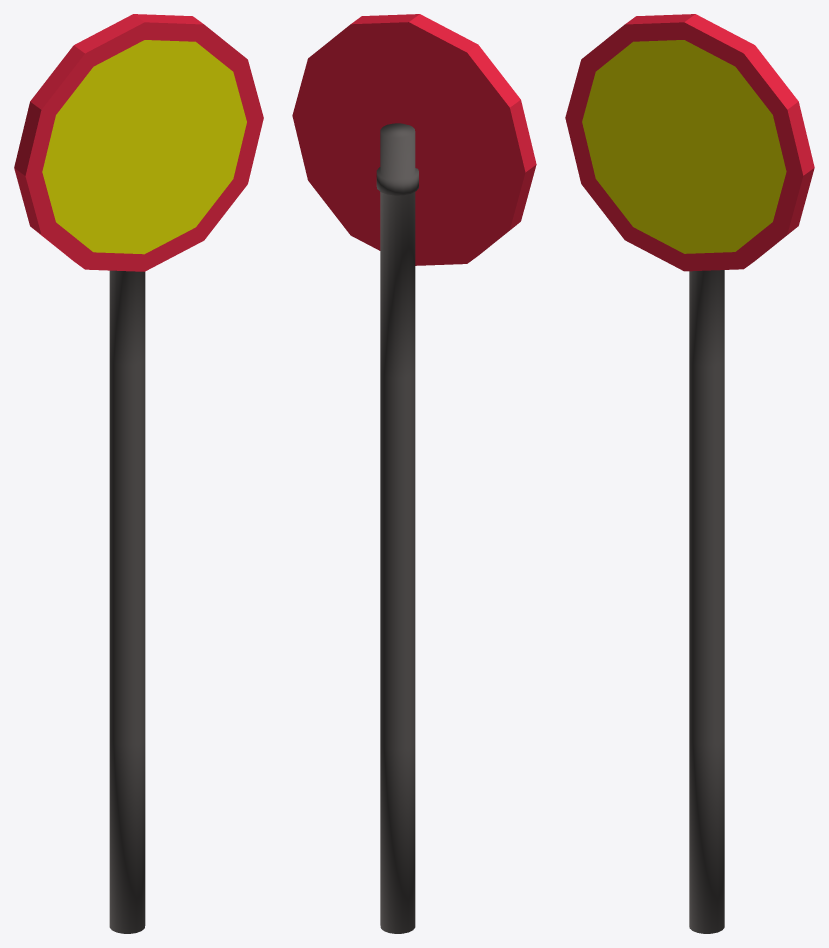
The model's file is obj_sign.fbx.
The picture shows the model from 3 angles, left to right: view 1: azimuth 30°, elevation 25°; view 2: azimuth 150°, elevation 25°; view 3: azimuth 330°, elevation 25°; orthographic projection. The views are drawn at different scales.
Visible parts, largest first — view 1: SIgn; view 2: SIgn; view 3: SIgn.
Part boxes in pixels (bbox=[...]): SIgn: bbox=[14, 14, 263, 933]; SIgn: bbox=[292, 14, 536, 933]; SIgn: bbox=[565, 14, 814, 933].
Bounding box in the file's own units: 74.65 × 275 × 16.78.
